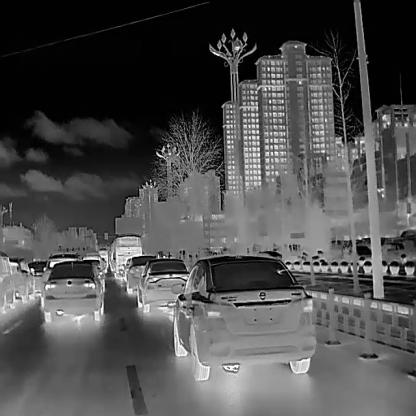bus: (110, 233, 142, 279)
car: (172, 253, 317, 380), (42, 258, 104, 321), (135, 257, 189, 312), (125, 253, 158, 295), (8, 254, 36, 302), (0, 248, 16, 313)
